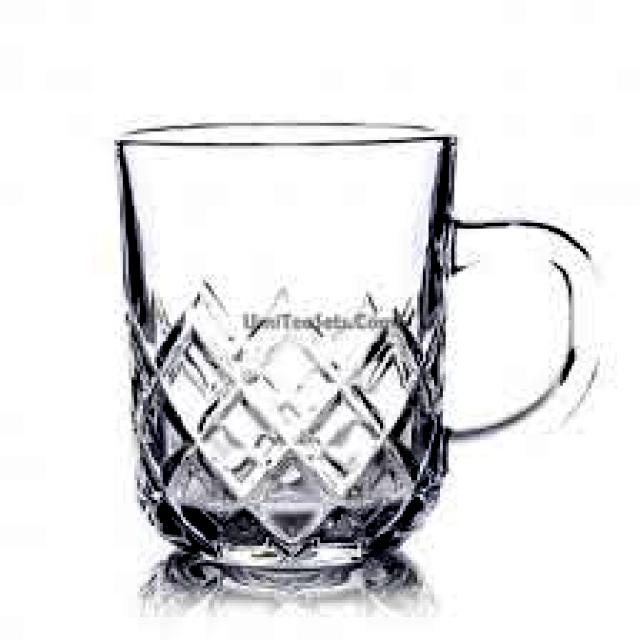Glass: (111, 111, 612, 580)
